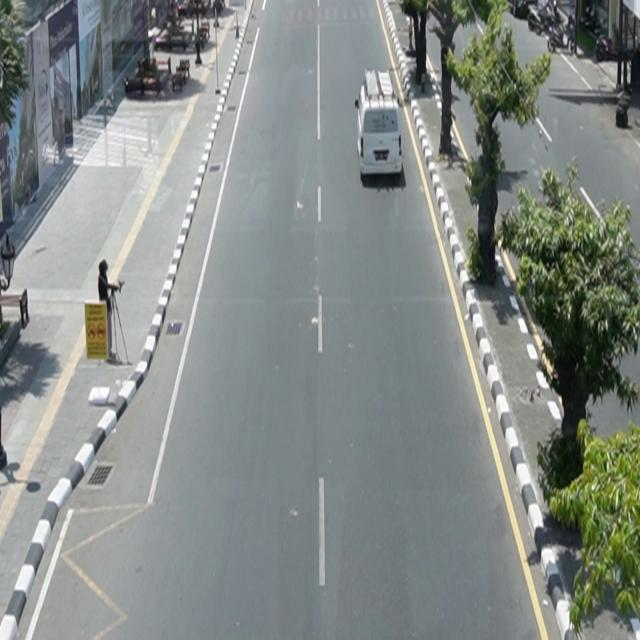car: (355, 68, 404, 181)
